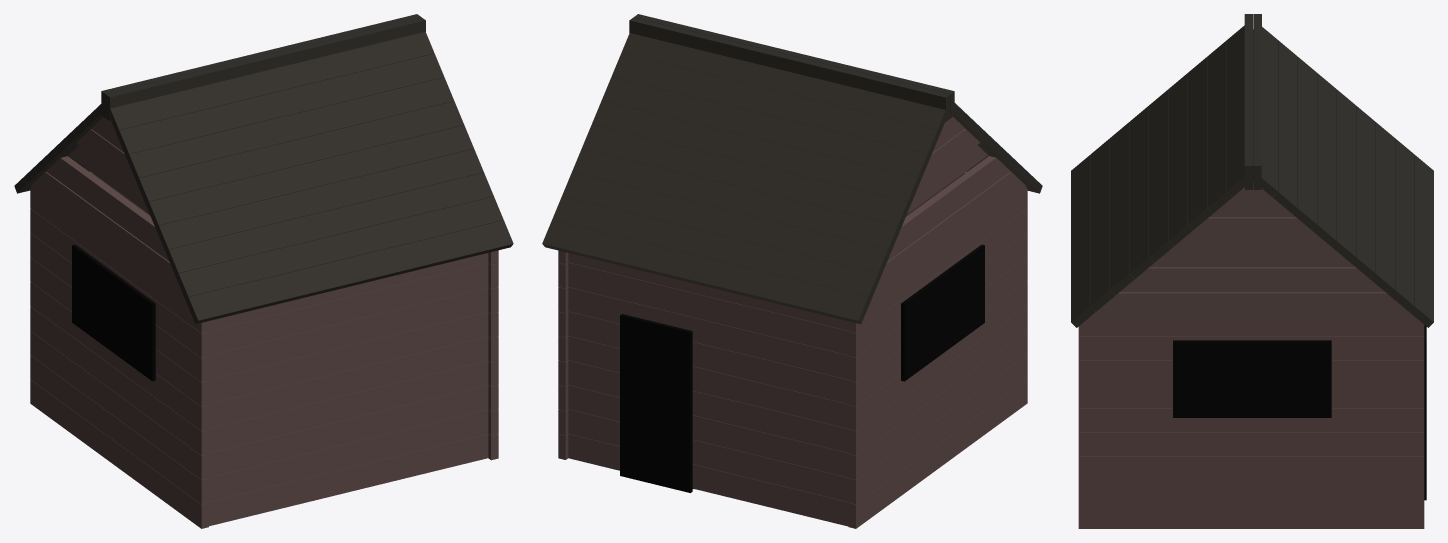
Rendered from SM_Env_Shed.fbx.
The picture shows the model from 3 angles, left to right: view 1: azimuth 30°, elevation 25°; view 2: azimuth 150°, elevation 25°; view 3: azimuth 270°, elevation 25°; orthographic projection.
Parts seen in each view (by area): view 1: Plane.012; view 2: Plane.012; view 3: Plane.012.
Part boxes in pixels (x1,y1,x2,y2): Plane.012: (14, 14, 513, 528); Plane.012: (542, 14, 1042, 528); Plane.012: (1071, 14, 1433, 528).
Size of the model in its own units: 865 by 973 by 857.
